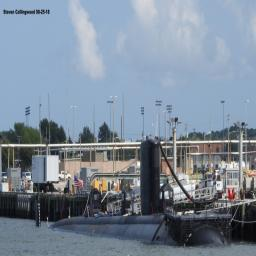submarine: (36, 141, 230, 247)
